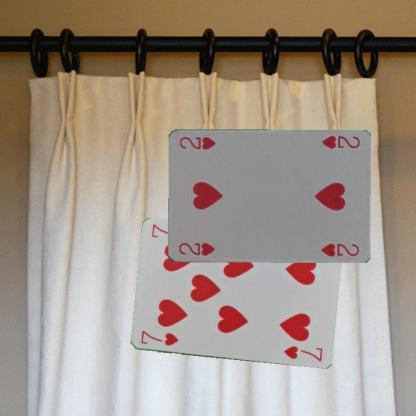2h: (176, 240, 216, 258), (318, 134, 361, 150)
7h: (138, 327, 180, 348)
